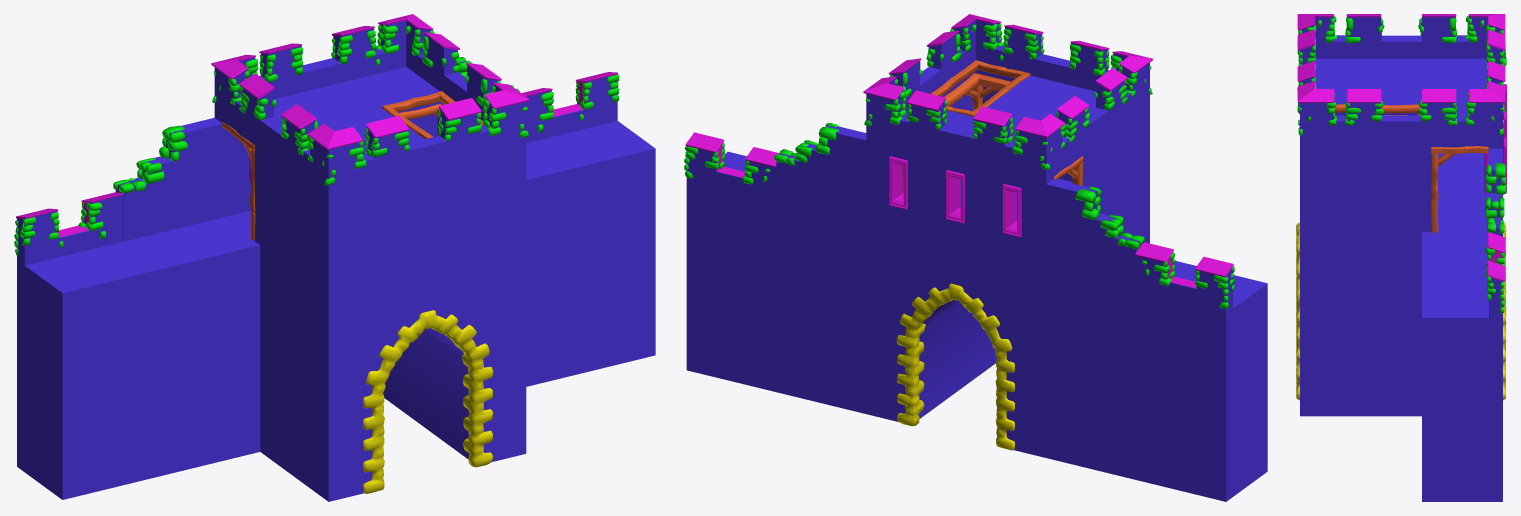
Rendered from Medieval WallDoor2.fbx.
3 renders of one model, left to right at view 1: azimuth 30°, elevation 25°; view 2: azimuth 150°, elevation 25°; view 3: azimuth 270°, elevation 25°, orthographic. The views are drawn at different scales.
Parts seen in each view (by area): view 1: WallDoor2; view 2: WallDoor2; view 3: WallDoor2.
Part boxes in pixels (<box>): WallDoor2: <box>14,14,655,501</box>; WallDoor2: <box>684,14,1267,501</box>; WallDoor2: <box>1296,14,1506,501</box>.
Size of what is drawn, in the model's own units: 15.09 by 8.74 by 5.19.
